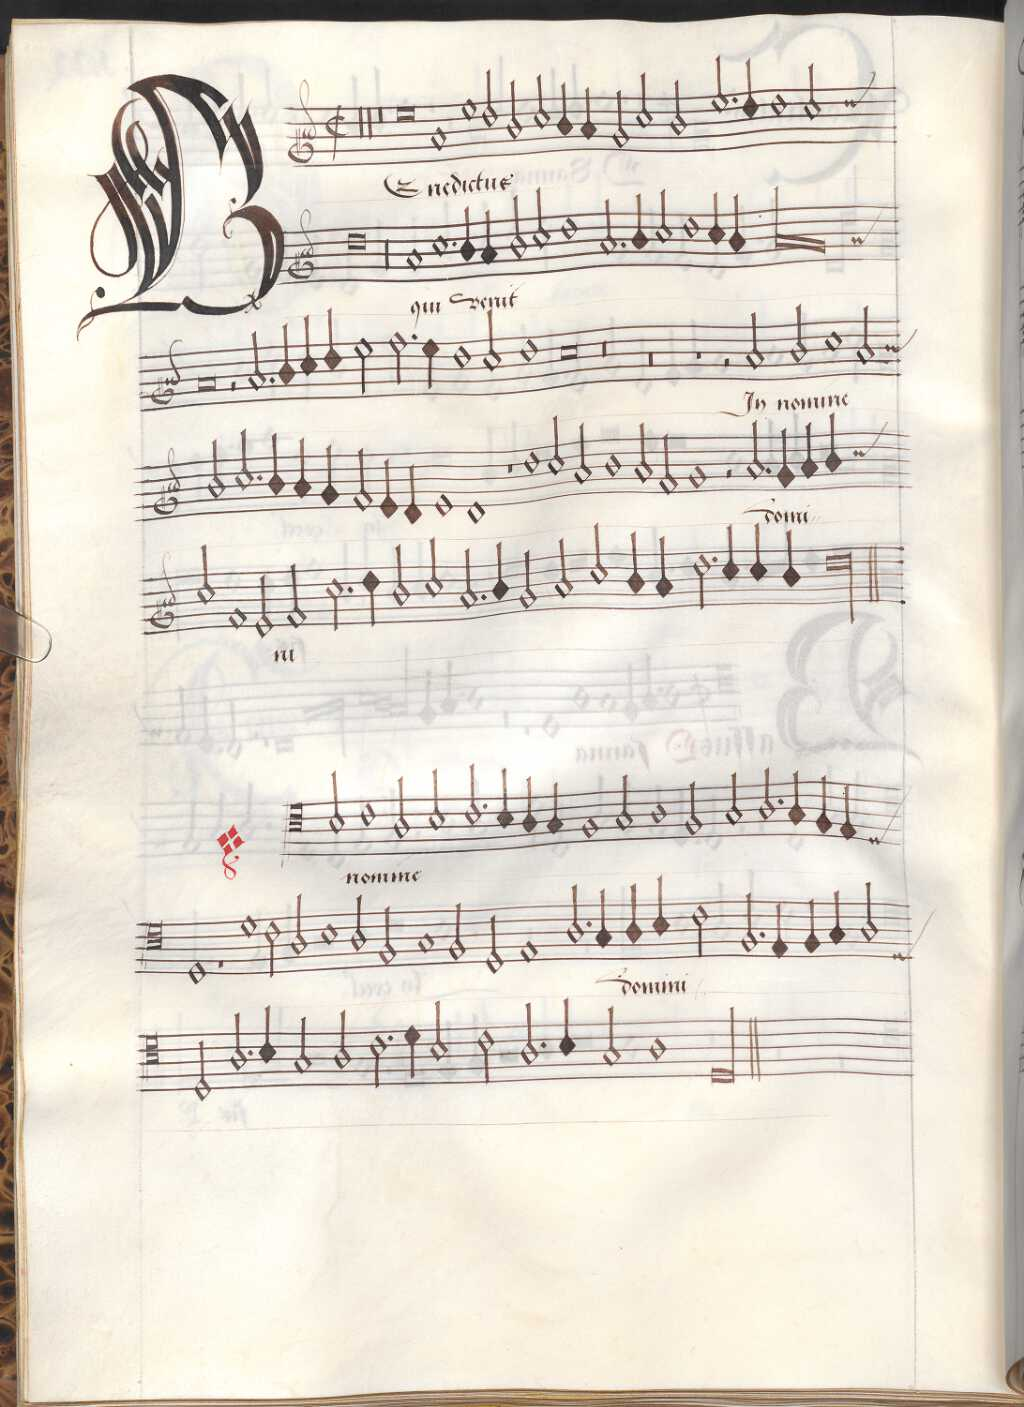c clef_5: (146, 919, 169, 967)
custos_11: (884, 914, 918, 974)
minim_11: (482, 905, 505, 979)
minim_5: (688, 897, 711, 962), (262, 911, 283, 981)
minim_7: (348, 895, 370, 959), (287, 896, 309, 961), (857, 894, 880, 950), (564, 895, 586, 951)
minim_9: (376, 899, 399, 972), (446, 896, 469, 968), (737, 895, 758, 960)
point: (578, 911, 597, 935), (754, 921, 769, 946)
semibreve rest: (213, 920, 229, 988)
semibreve_10: (516, 929, 543, 974)
semibreve_11: (183, 951, 211, 995)
semibreve_4: (236, 906, 260, 946)
semibreve_6: (317, 913, 342, 955)
semibreve_8: (413, 921, 439, 962)
semiminim_10: (770, 895, 790, 967)
semiminim_6: (651, 871, 673, 946)
semiminim_7: (623, 887, 645, 951)
semiminim_8: (593, 894, 614, 958), (827, 896, 846, 951)
semiminim_9: (803, 896, 823, 962)
